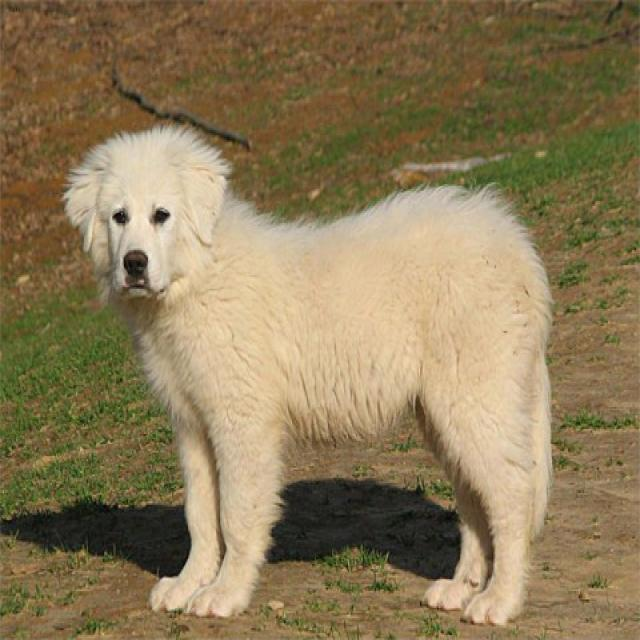dog-great_pyrenees: (56, 118, 560, 633)
